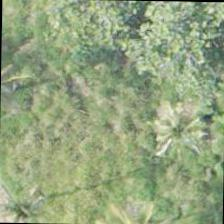Kelapa_Sawit: (126, 90, 218, 182), (0, 166, 61, 223)
